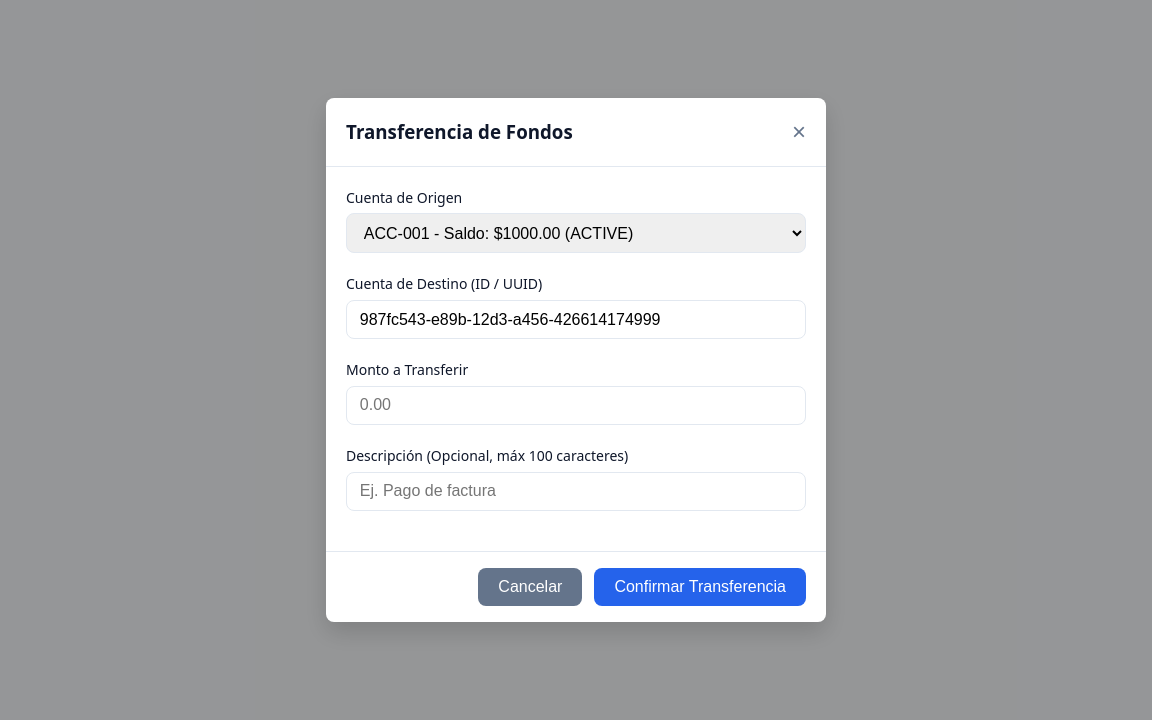
Test: TransferFormModal › muestra error de validación cuando el ID de destino es inválido
Replace the text in the field labelled "Cuenta de Destino (ID / UUID)" with "invalid-id" at (576, 320), box [346,300,806,339]
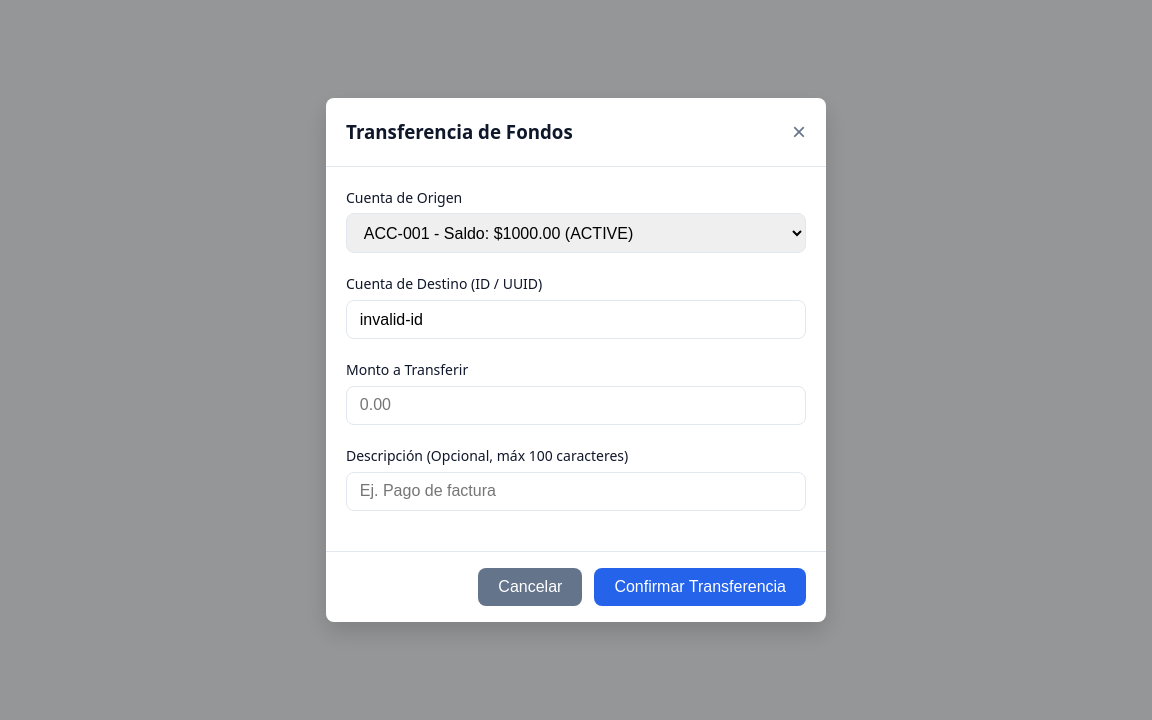
Click the button "Confirmar Transferencia" at (700, 587), box [594,568,806,606]
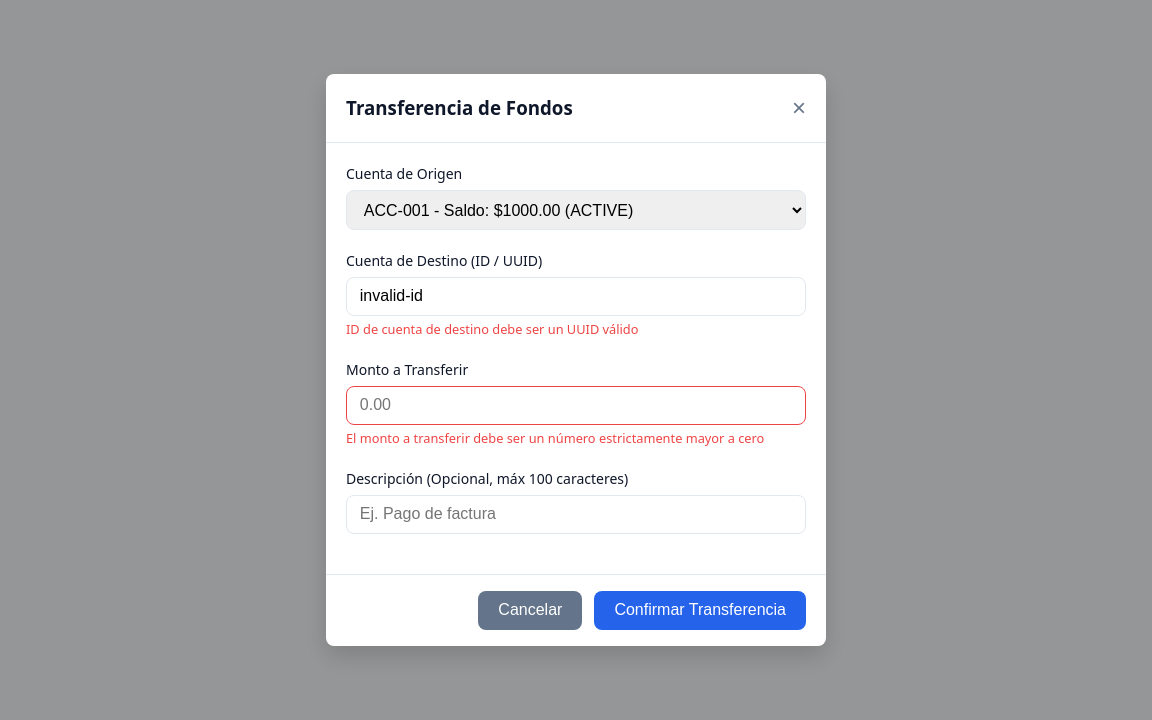
Expected: the text "ID de cuenta de destino debe ser un UUID válido" is shown, [346,320,638,338]
